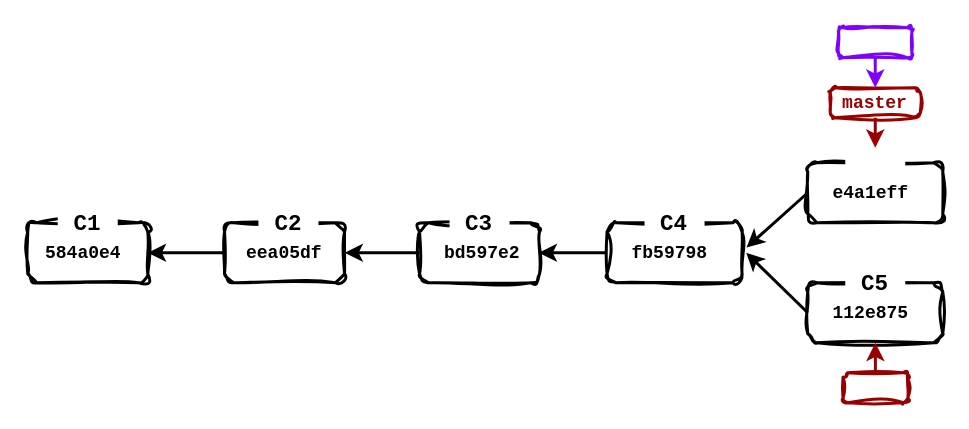
Image size: 969x429. Some labels were removed from this diagram. The shapes that lost their labels are listed below. From the top down, each one's box as (x1, y1, x2, y2) in pixels, then its label:
(836, 26, 913, 58): HEAD
(844, 147, 904, 177): C6
(841, 370, 908, 404): sol
